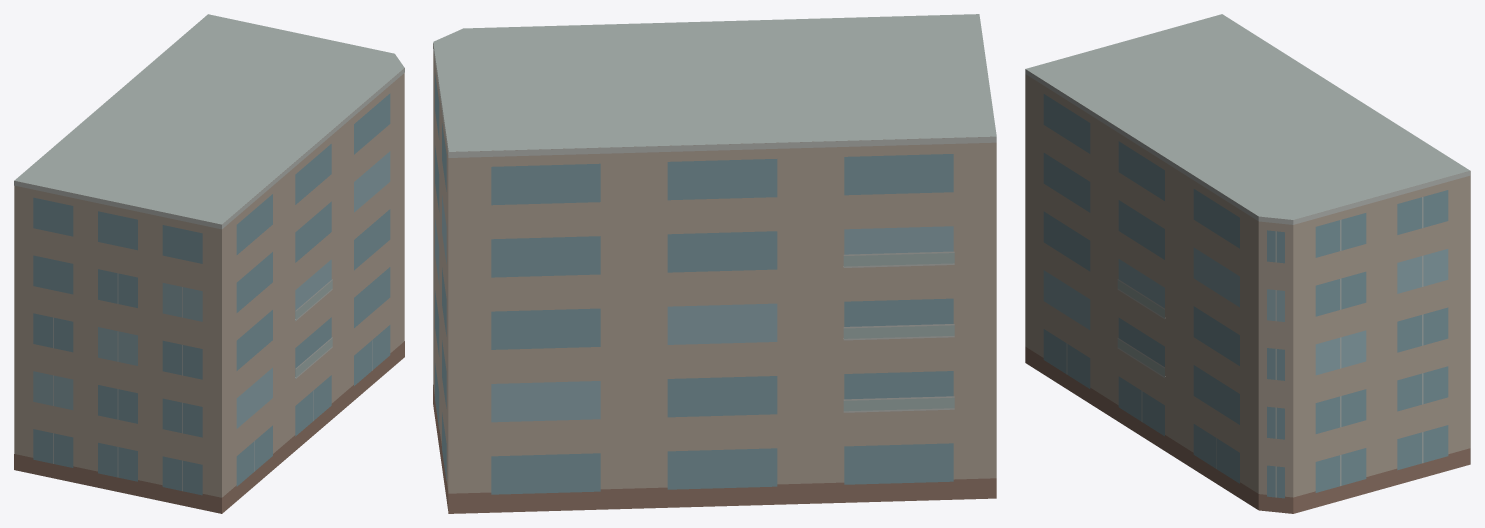
File: survey-upis-32668583.glb
The picture shows the model from 3 angles, left to right: view 1: azimuth 30°, elevation 25°; view 2: azimuth 150°, elevation 25°; view 3: azimuth 270°, elevation 25°; orthographic projection. The views are drawn at different scales.
Visible parts, largest first — view 1: survey-upis-32668583.tmp; view 2: survey-upis-32668583.tmp; view 3: survey-upis-32668583.tmp.
Boxes of the visible parts, <box> form: survey-upis-32668583.tmp: <box>14,14,404,513</box>; survey-upis-32668583.tmp: <box>433,14,996,513</box>; survey-upis-32668583.tmp: <box>1025,14,1470,513</box>.
Bounding box in the file's own units: 21.88 × 14.55 × 19.99.
